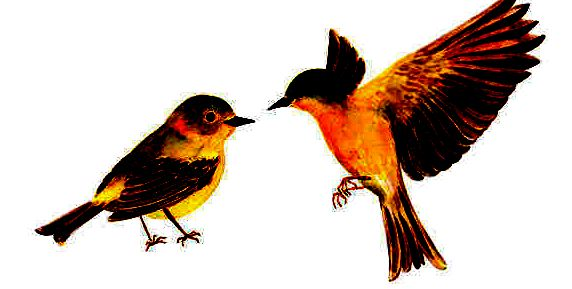Bird: (263, 0, 546, 286), (33, 94, 258, 253)
